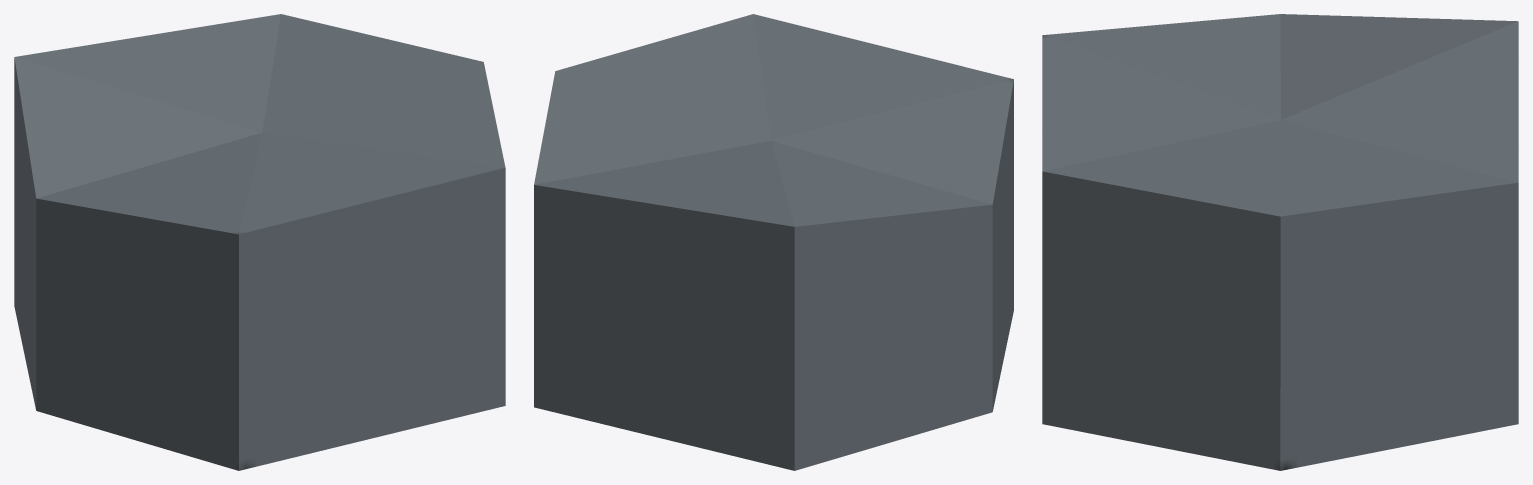
File: rock_decoration.fbx
3 renders of one model, left to right at view 1: azimuth 30°, elevation 25°; view 2: azimuth 150°, elevation 25°; view 3: azimuth 270°, elevation 25°, orthographic. The views are drawn at different scales.
Parts seen in each view (by area): view 1: rock_decoration; view 2: rock_decoration; view 3: rock_decoration.
Boxes of the visible parts, x1,y1,x2,y2 form: rock_decoration: [14, 14, 505, 470]; rock_decoration: [534, 14, 1013, 470]; rock_decoration: [1042, 14, 1518, 470].
Bounding box in the file's own units: 73.36 × 39.12 × 63.72.
